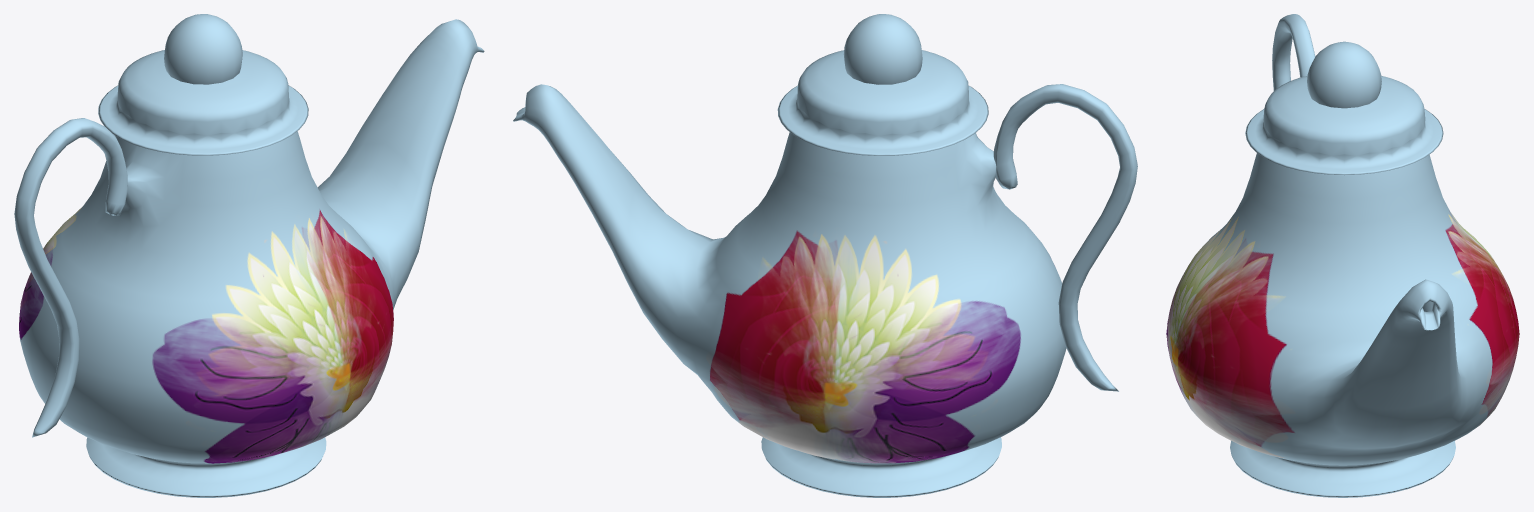
Rendered from Breanna_TeaRoom_Teapot-realistic.fbx.
3 views of the same model, side by side, from view 1: azimuth 30°, elevation 25°; view 2: azimuth 150°, elevation 25°; view 3: azimuth 270°, elevation 25° (orthographic). The views are drawn at different scales.
Visible parts, largest first — view 1: polySurface3, polySurface4, polySurface6; view 2: polySurface3, polySurface4, polySurface6; view 3: polySurface3, polySurface4, polySurface6.
Boxes of the visible parts, x1,y1,x2,y2 form: polySurface3: (19, 19, 484, 497); polySurface4: (98, 14, 308, 155); polySurface6: (14, 118, 127, 437); polySurface3: (513, 84, 1066, 497); polySurface4: (777, 14, 988, 155); polySurface6: (993, 84, 1137, 391); polySurface3: (1166, 153, 1519, 497); polySurface4: (1245, 41, 1443, 175); polySurface6: (1272, 14, 1315, 90).
Bounding box in the file's own units: 3.51 × 2.68 × 2.1.
Materials: 3 (3 with a texture image).
